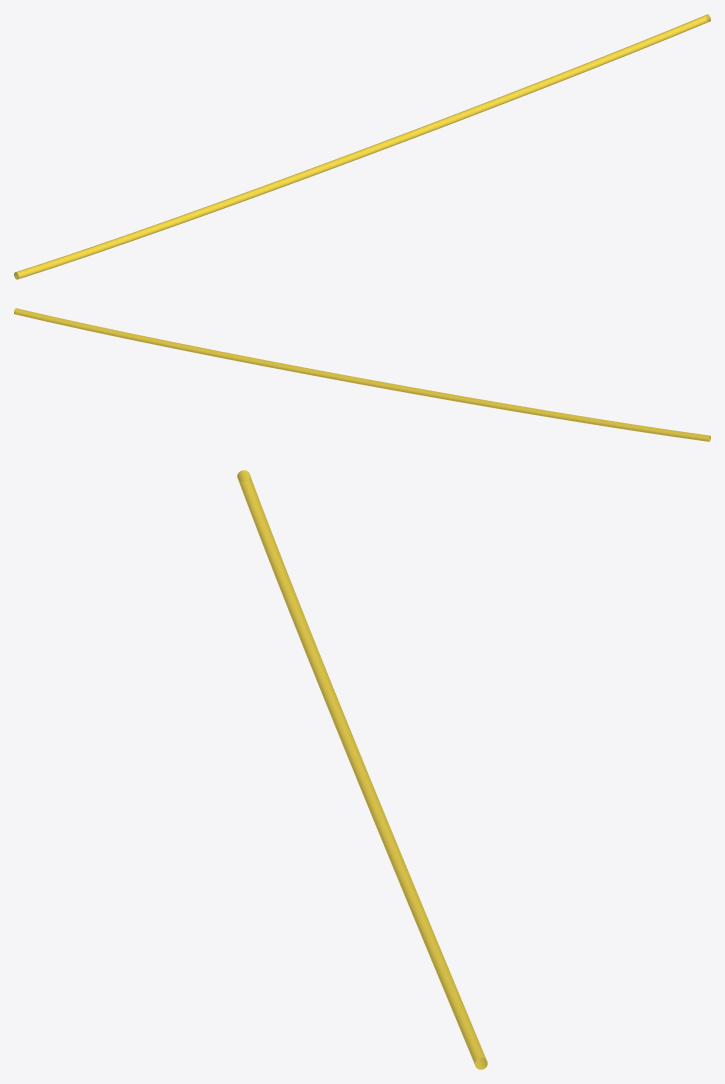
The model's file is Event_84804159_track_54.fbx.
The picture shows the model from 3 angles, top to bottom: view 1: azimuth 30°, elevation 25°; view 2: azimuth 150°, elevation 25°; view 3: azimuth 270°, elevation 25°; orthographic projection. The views are drawn at different scales.
Visible parts, largest first — view 1: Model; view 2: Model; view 3: Model.
Boxes of the visible parts, x1,y1,x2,y2 form: Model: (14, 14, 710, 279); Model: (14, 308, 710, 441); Model: (237, 470, 487, 1069).
Bounding box in the file's own units: 4.55 × 0.1575 × 0.7765.
